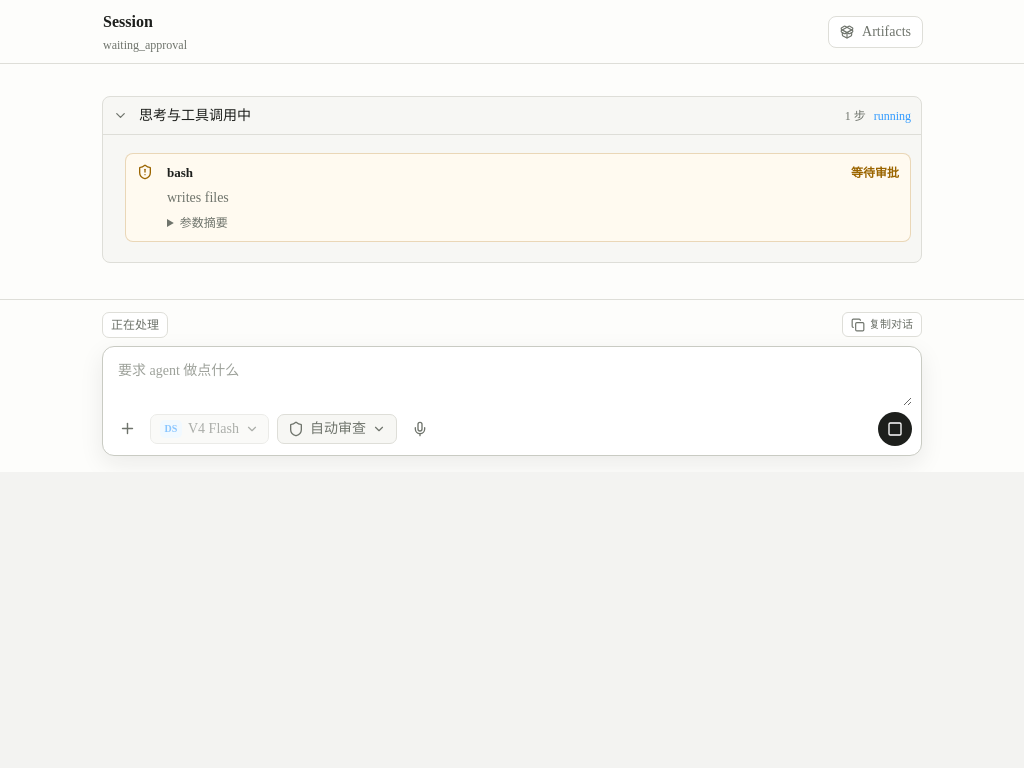
Test: ChatWorkspace › expands running thinking groups and renders inline approval status
Check: the text "思考与工具调用中" is shown, box x1=139 y1=108 x2=251 y2=123
Check: the text "等待审批" is shown, box x1=851 y1=164 x2=899 y2=182
Click the heading "参数摘要" at (204, 222), box x1=180 y1=216 x2=228 y2=230
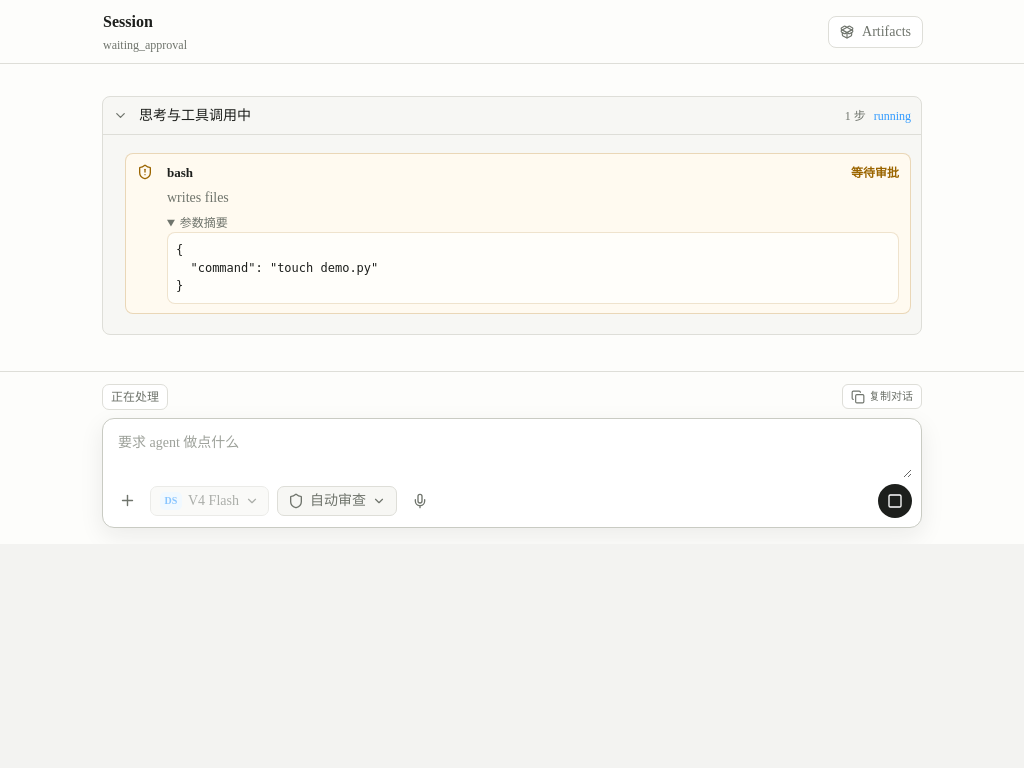
Check: the text "{ \"command\": \"touch demo.py\" }" is shown, box x1=167 y1=232 x2=899 y2=304
